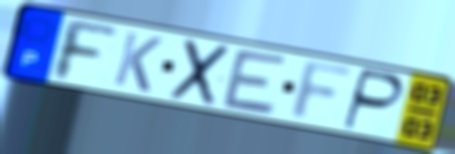E: (219, 46, 290, 118)
F: (286, 59, 360, 124), (52, 15, 120, 84)
K: (110, 29, 166, 95)
P: (339, 67, 406, 133)
X: (166, 37, 234, 109)
